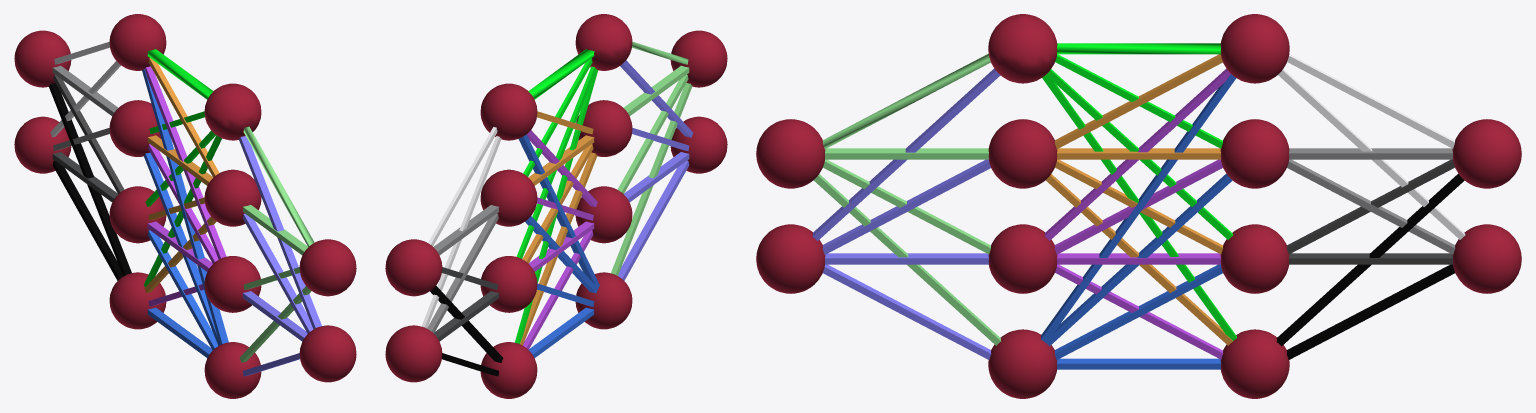
The picture shows the model from 3 angles, left to right: view 1: azimuth 30°, elevation 25°; view 2: azimuth 150°, elevation 25°; view 3: azimuth 270°, elevation 25°; orthographic projection. The views are drawn at different scales.
Visible parts, largest first — view 1: Sphère, Sphère.001, Sphère.005, Sphère.006, Sphère.002, Sphère.004, Sphère.003, Sphère.011, Sphère.007, Sphère.010, Sphère.008, Sphère.009 (+32 smaller); view 2: Sphère.011, Sphère.010, Sphère.006, Sphère.009, Sphère.005, Sphère.008, Sphère.007, Sphère, Sphère.003, Sphère.001, Sphère.002, Sphère.004 (+32 smaller); view 3: Sphère.005, Sphère.006, Sphère.011, Sphère, Sphère.002, Sphère.009, Sphère.010, Sphère.001, Sphère.008, Sphère.003, Sphère.007, Sphère.004 (+32 smaller).
Boxes of the visible parts, box(x1,y1,x2,y2) form: Sphère: box(299, 239, 356, 296); Sphère.001: box(299, 325, 356, 382); Sphère.005: box(204, 83, 261, 140); Sphère.006: box(109, 14, 166, 70); Sphère.002: box(204, 169, 261, 226); Sphère.004: box(204, 342, 261, 398); Sphère.003: box(204, 256, 261, 312); Sphère.011: box(14, 30, 71, 87); Sphère.007: box(109, 272, 166, 329); Sphère.010: box(14, 116, 71, 173); Sphère.008: box(109, 186, 166, 243); Sphère.009: box(109, 100, 161, 156); Sphère.011: box(385, 239, 442, 296); Sphère.010: box(385, 325, 442, 382); Sphère.006: box(480, 83, 537, 140); Sphère.009: box(480, 169, 537, 226); Sphère.005: box(575, 14, 632, 70); Sphère.008: box(480, 256, 537, 312); Sphère.007: box(480, 342, 537, 398); Sphère: box(670, 30, 727, 87); Sphère.003: box(575, 186, 632, 243); Sphère.001: box(670, 116, 727, 173); Sphère.002: box(576, 100, 632, 156); Sphère.004: box(575, 272, 632, 329); Sphère.005: box(988, 14, 1057, 83); Sphère.006: box(1220, 14, 1289, 83); Sphère.011: box(1452, 119, 1521, 188); Sphère: box(756, 119, 825, 188); Sphère.002: box(988, 119, 1057, 188); Sphère.009: box(1220, 119, 1289, 188); Sphère.010: box(1452, 224, 1521, 293); Sphère.001: box(756, 224, 825, 293); Sphère.008: box(1220, 224, 1289, 293); Sphère.003: box(988, 224, 1057, 293); Sphère.007: box(1220, 329, 1289, 398); Sphère.004: box(988, 329, 1057, 398).
Bounding box in the file's own units: 0.6 × 3.6 × 6.6.
